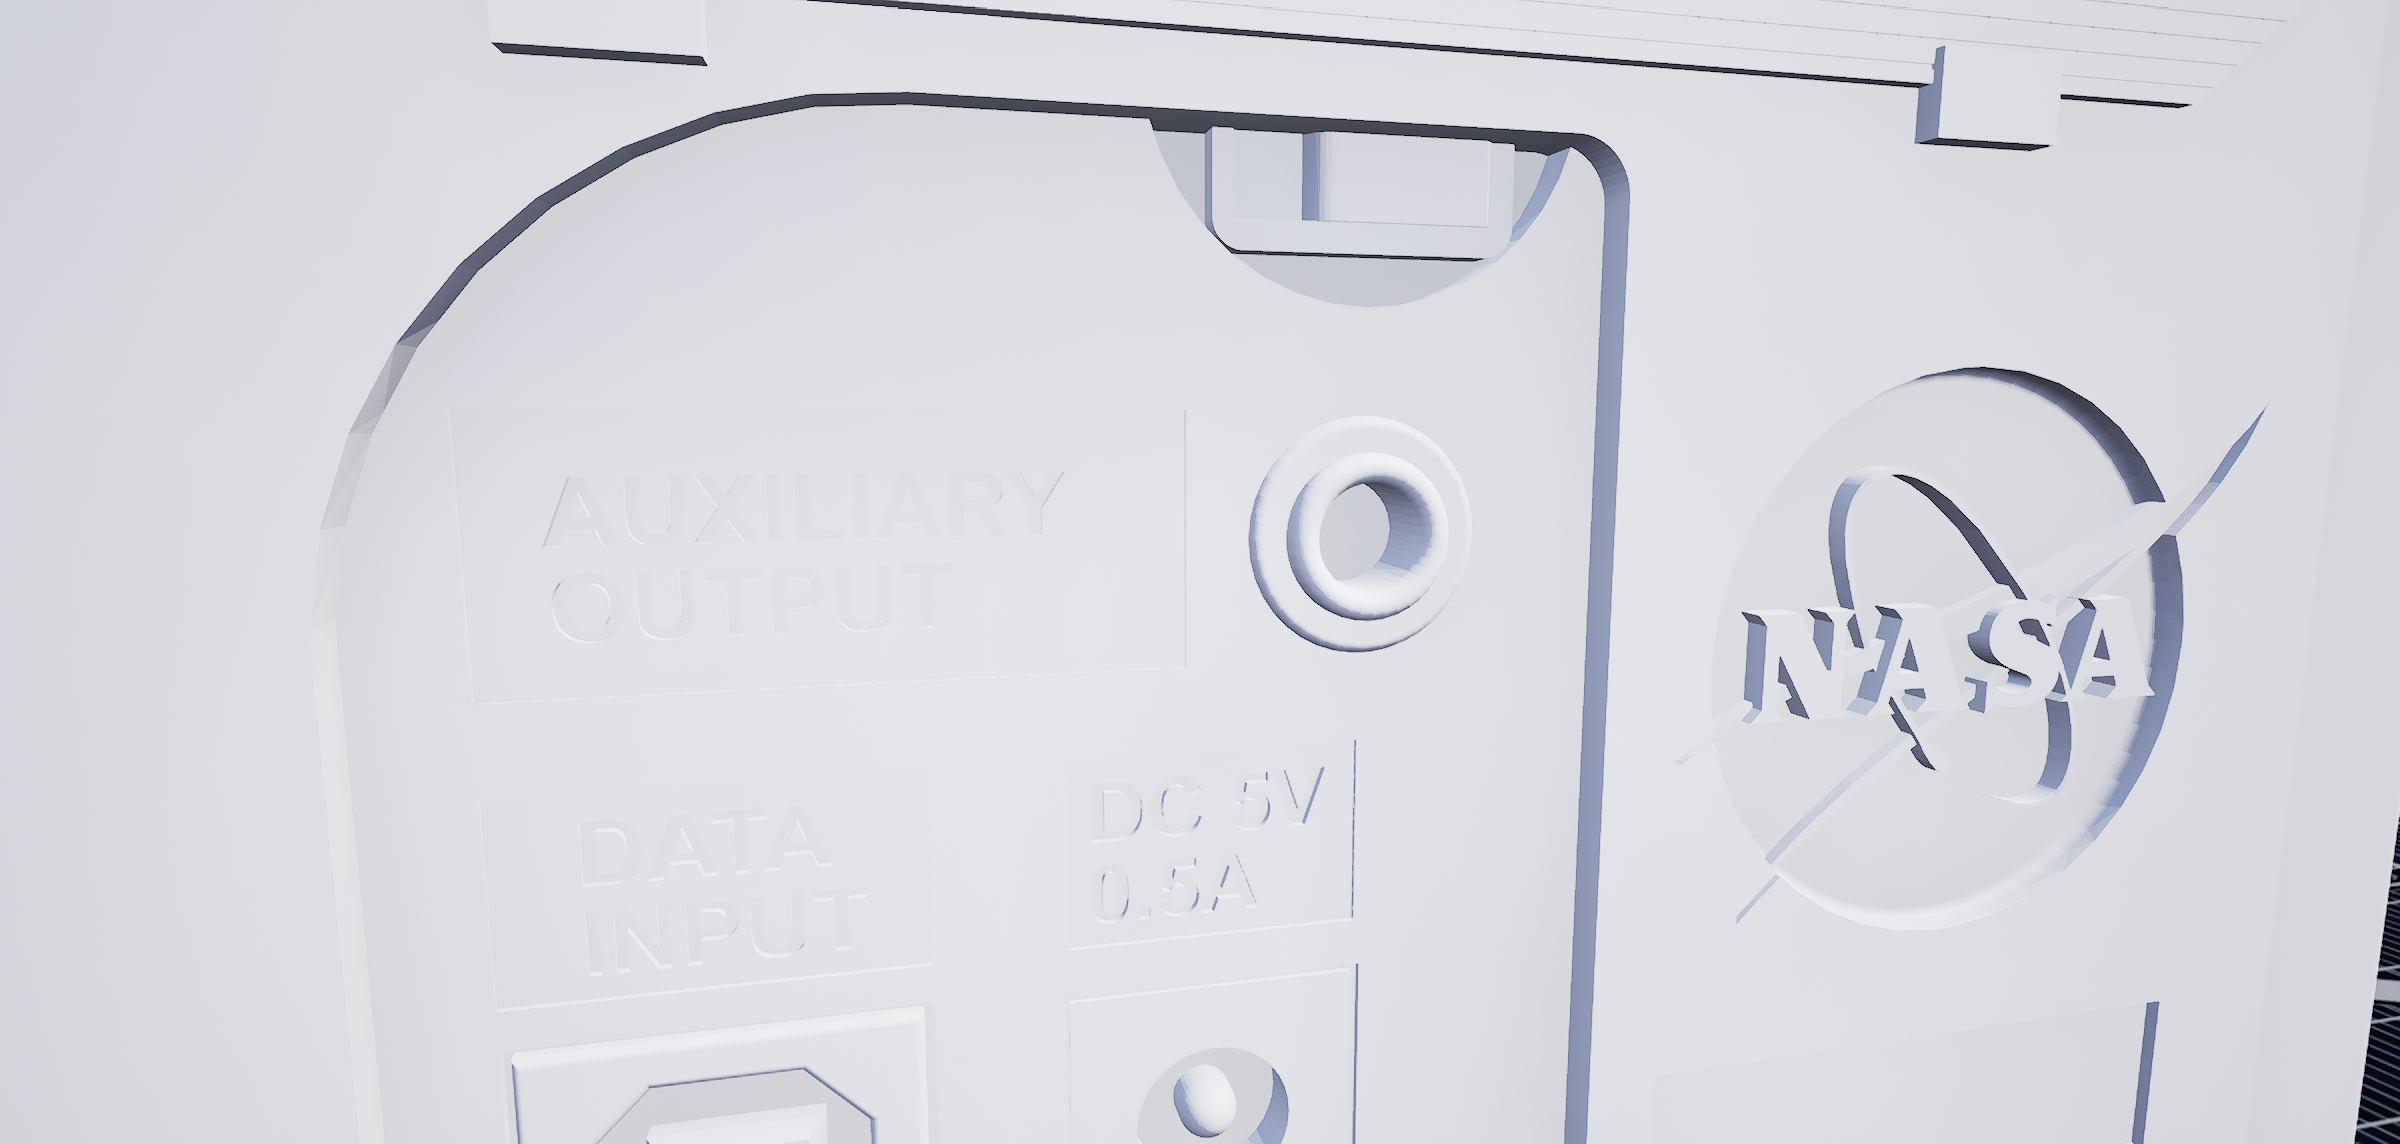aux: (1247, 397, 1482, 660)
dc: (1130, 1051, 1307, 1144)
usb: (574, 1070, 895, 1144)
